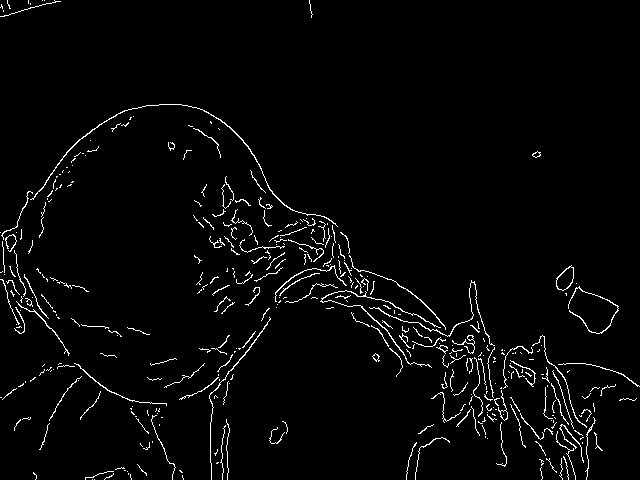red_onion: (1, 92, 377, 409), (194, 258, 555, 474)
